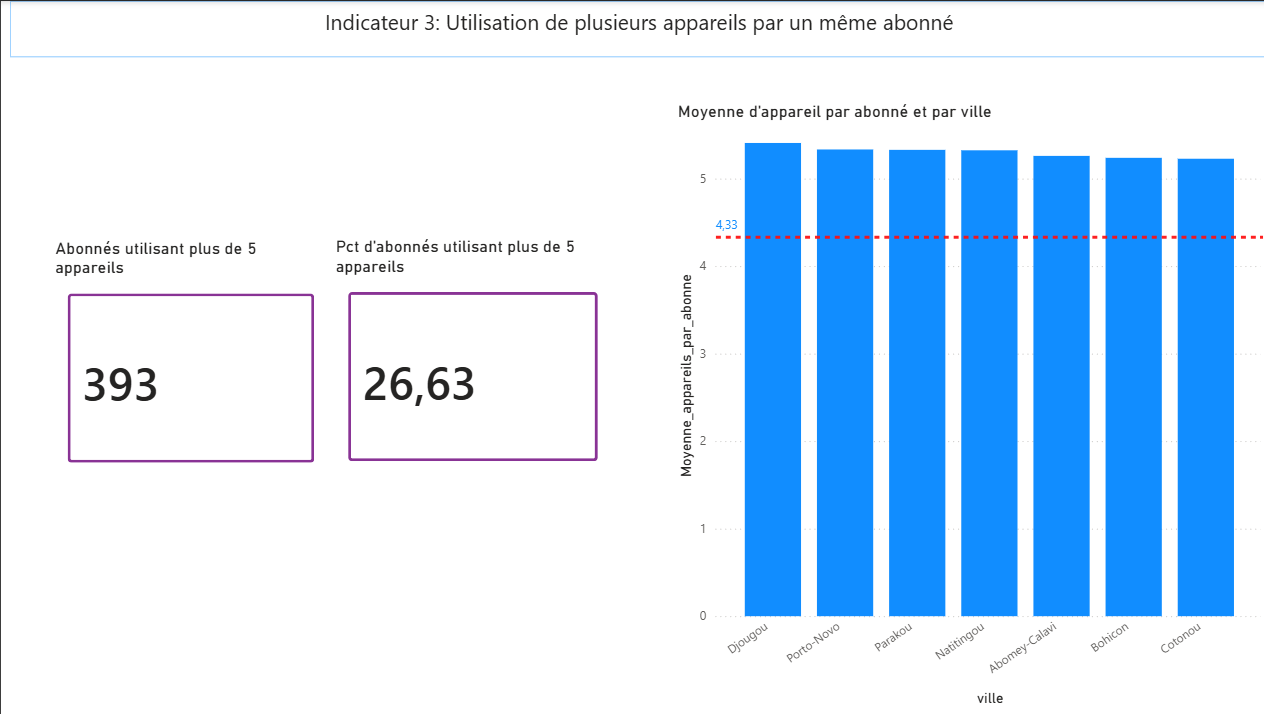

The page's visual inventory and layout, read from the dashboard file:
{"tool":"powerbi","page":{"name":"Indicateur_3","canvas":[1280,720],"ordinal":4},"visuals":[{"type":"textbox","box":[9.5,0,1271.1,56.8],"z":0},{"type":"cardVisual","title":"Abonnés utilisant plus de 5 appareils","fields":{"Data":["dataset_fraude_benin.Nb_abonnes_multi_appareils"]},"box":[66.3,82.1,284.2,243.2],"z":1000},{"type":"cardVisual","title":"Pct d''abonnés utilisant plus de 5 appareils","fields":{"Data":["dataset_fraude_benin.Pct_abonnes_multi_appareils"]},"box":[350.5,82.1,285.8,243.2],"z":2000},{"type":"pieChart","title":"Répartition des abonnés selon le nombre d’appareils utilisés","fields":{"Category":["dataset_fraude_benin.Categorie_appareils"],"Y":["Count(dataset_fraude_benin.id_client)"]},"box":[94.7,355.3,510,360],"z":3000},{"type":"clusteredColumnChart","title":"Moyenne d''appareil par abonné et par ville","fields":{"Category":["dataset_fraude_benin.ville"],"Y":["dataset_fraude_benin.Moyenne_appareils_par_abonne"]},"box":[679,101.1,601.6,614.2],"z":4000}]}

Visuals, with their boxes in screenshot pixels (x1, y1, x2, y2), scaled from the page's 1280x720 canvas onto the 1264x714 screenshot:
textbox: detection(9, 0, 1263, 56)
"Abonnés utilisant plus de 5 appareils" cardVisual: detection(65, 81, 346, 323)
"Pct d''abonnés utilisant plus de 5 appareils" cardVisual: detection(346, 81, 628, 323)
"Répartition des abonnés selon le nombre d’appareils utilisés" pieChart: detection(94, 352, 597, 709)
"Moyenne d''appareil par abonné et par ville" clusteredColumnChart: detection(671, 100, 1263, 709)
